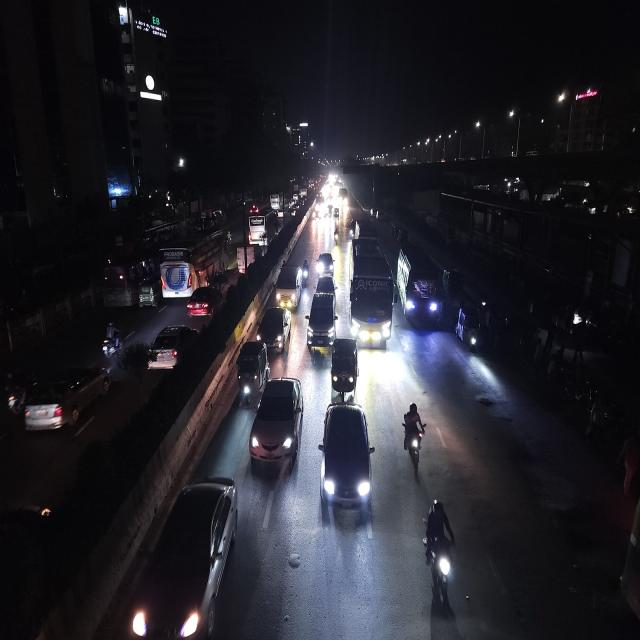bus: (157, 225, 233, 298), (348, 234, 394, 351), (396, 242, 446, 330), (102, 246, 157, 309), (243, 205, 272, 246)
car: (128, 470, 240, 640), (12, 360, 112, 440), (318, 398, 374, 524), (248, 373, 306, 479), (145, 321, 199, 375), (306, 277, 338, 356), (254, 303, 292, 354), (186, 282, 228, 321), (273, 262, 303, 310), (315, 248, 336, 276)
cng: (234, 337, 269, 406), (330, 334, 360, 400), (454, 302, 482, 358), (136, 274, 158, 310)
motorcycle: (422, 495, 460, 612), (400, 399, 428, 473), (98, 320, 124, 362), (300, 256, 311, 287), (333, 228, 341, 248), (333, 207, 341, 225)
truck: (235, 244, 263, 276)
